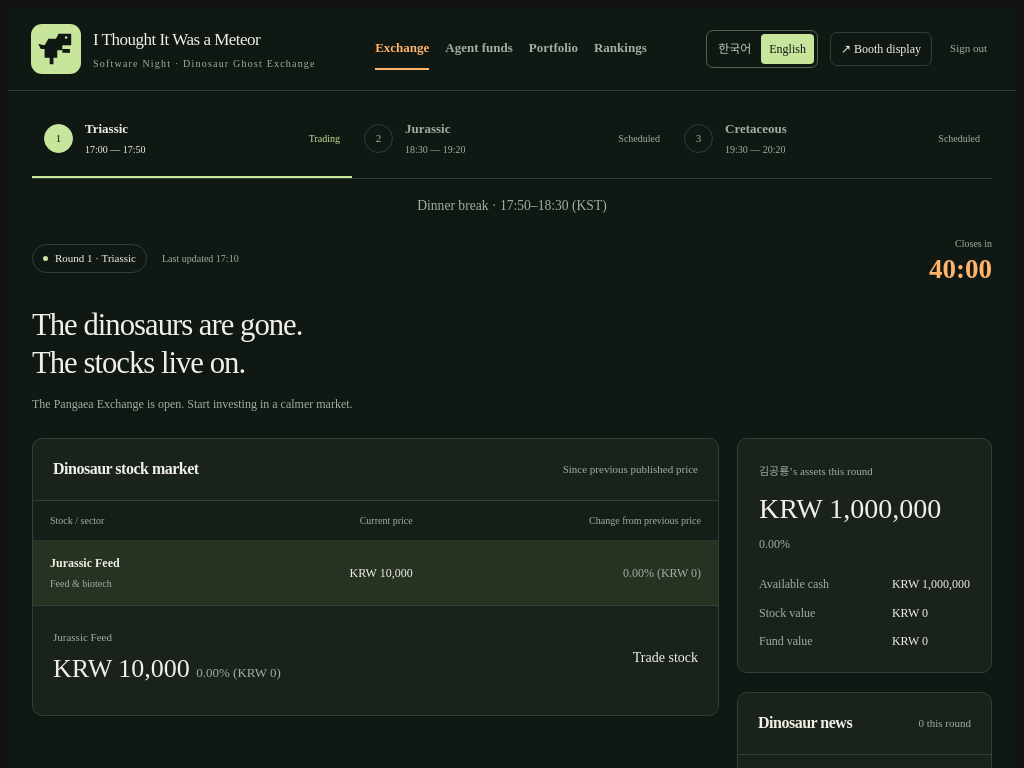
Test case: language preferences › keeps a selection when storage writes are blocked
Expected: the heading "Dinosaur stock market" is shown, [53,457,199,482]
Step 1. Click the button "한국어" → click(735, 49), box [710,34,759,64]
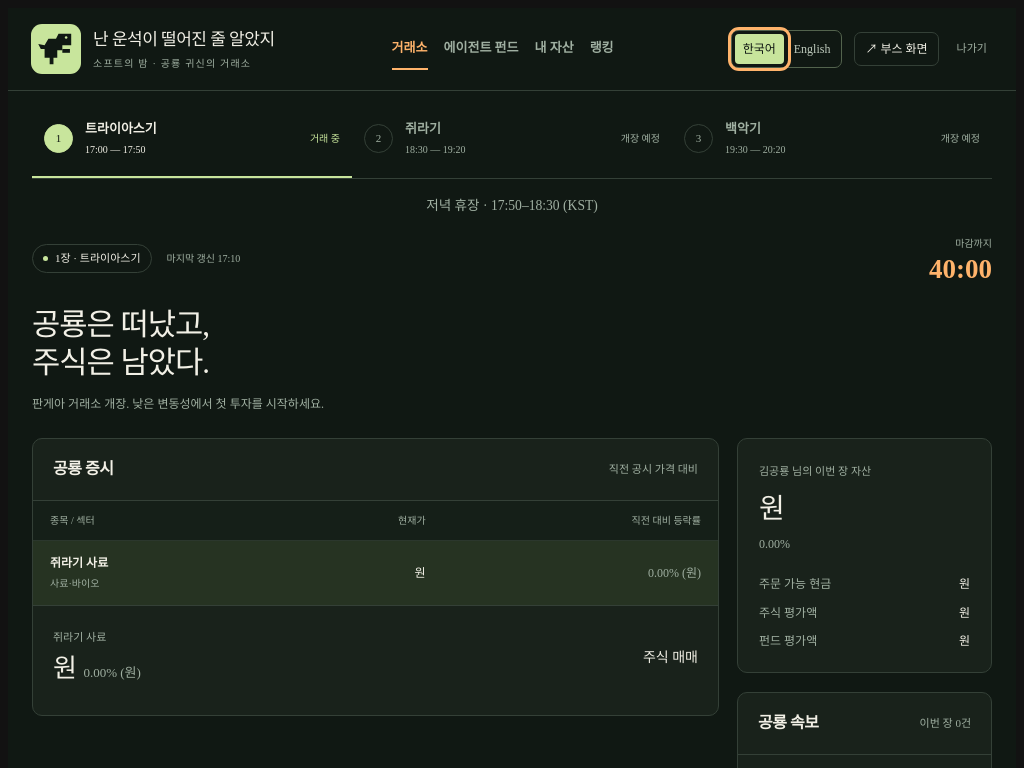
Result: the heading "공룡 증시" is shown at [53,457,113,482]
